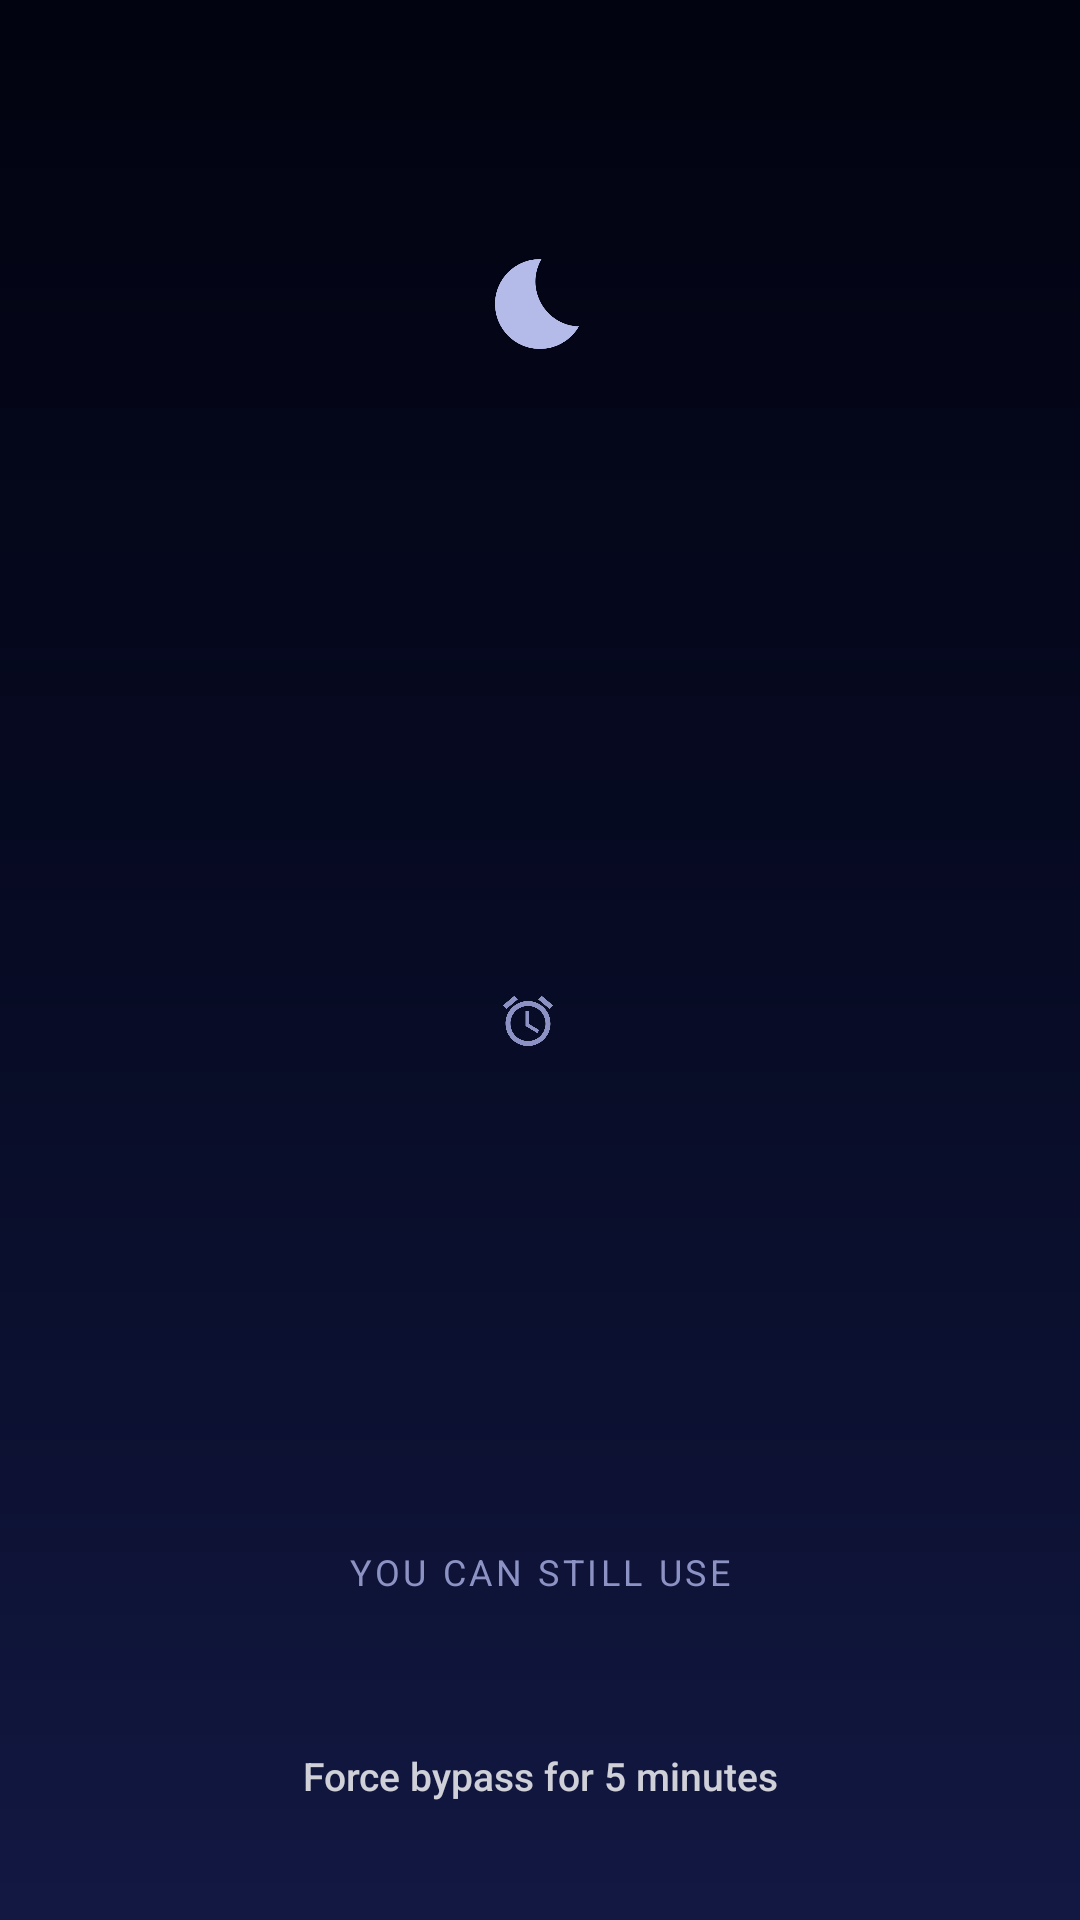

Icons on this 1080x1920 Android screen, each with the point to tap as point (x, y):
moon: point (537, 304)
